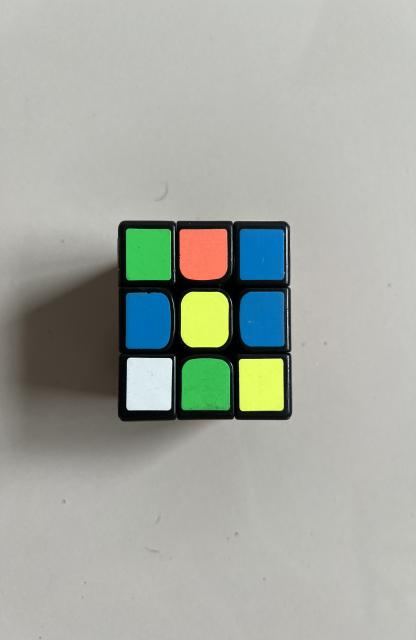Blue: (126, 292, 171, 349), (239, 291, 285, 346), (239, 229, 285, 280)
Green: (181, 358, 231, 410), (126, 229, 171, 281)
Orange: (180, 229, 228, 280)
White: (126, 358, 172, 411)
Yellow: (181, 291, 229, 348), (238, 359, 284, 411)
